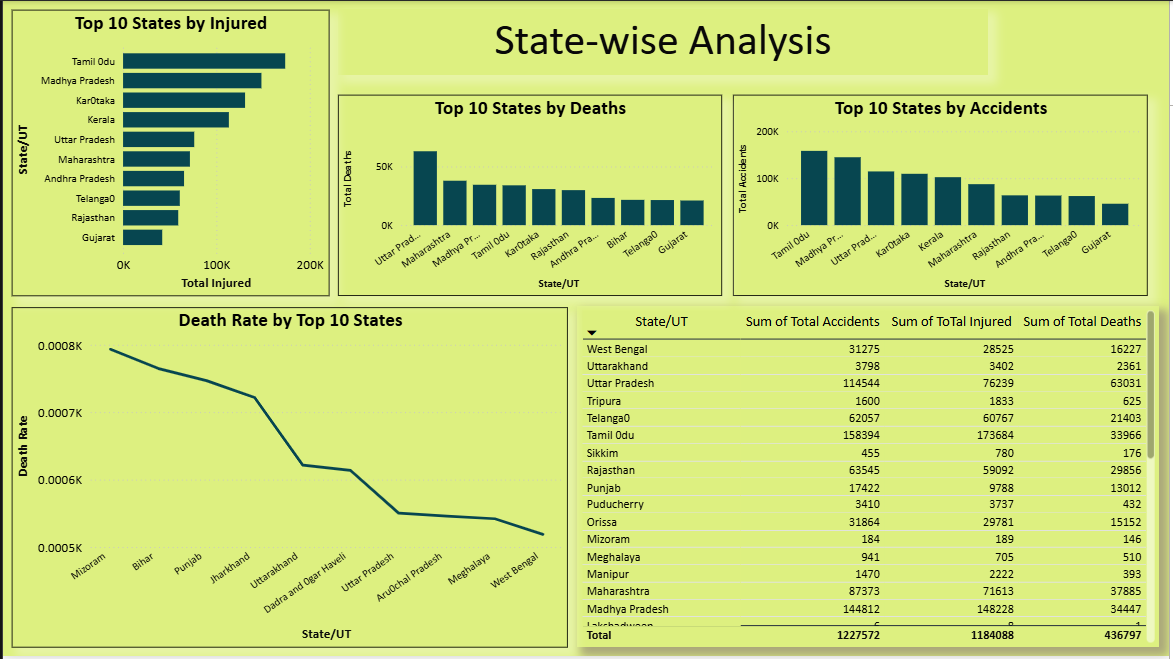

Layout of this report page (visuals, bound fields, positions):
{"tool":"powerbi","page":{"name":"State Analysis","canvas":[1280,720],"ordinal":1},"visuals":[{"type":"clusteredBarChart","title":"Top 10 States by Injured","fields":{"Category":["Cleaned_Road_Accident_Data.State/UT"],"Y":["Sum(Cleaned_Road_Accident_Data.ToTal Injured)"]},"box":[9.6,9.6,348.5,314.2],"z":0},{"type":"clusteredColumnChart","title":"Top 10 States by Accidents","fields":{"Y":["Sum(Cleaned_Road_Accident_Data.Total Accidents)"],"Category":["Cleaned_Road_Accident_Data.State/UT"]},"box":[801.4,102.9,455.6,220.9],"z":1000},{"type":"clusteredColumnChart","title":"Top 10 States by Deaths","fields":{"Category":["Cleaned_Road_Accident_Data.State/UT"],"Y":["Sum(Cleaned_Road_Accident_Data.Total Deaths)"]},"box":[367.8,102.9,421.3,220.9],"z":2000},{"type":"lineChart","title":"Death Rate by  Top 10 States","fields":{"Category":["Cleaned_Road_Accident_Data.State/UT"],"Y":["Cleaned_Road_Accident_Data.Death Rate"]},"box":[9.6,336.2,610.6,373.2],"z":3000},{"type":"textbox","box":[367.8,8.2,713.6,72.7],"z":4000},{"type":"tableEx","fields":{"Values":["Cleaned_Road_Accident_Data.State/UT","Sum(Cleaned_Road_Accident_Data.Total Accidents)","Sum(Cleaned_Road_Accident_Data.ToTal Injured)","Sum(Cleaned_Road_Accident_Data.Total Deaths)"]},"box":[629.8,334.8,639.5,374.6],"z":5000}]}

Visuals, with their boxes in screenshot pixels (x1, y1, x2, y2), scaled from the page's 1280x720 canvas onto the 1173x659 screenshot:
"Top 10 States by Injured" clusteredBarChart: crop(9, 9, 328, 296)
"Top 10 States by Accidents" clusteredColumnChart: crop(734, 94, 1152, 296)
"Top 10 States by Deaths" clusteredColumnChart: crop(337, 94, 723, 296)
"Death Rate by  Top 10 States" lineChart: crop(9, 308, 568, 649)
textbox: crop(337, 8, 991, 74)
tableEx - Cleaned_Road_Accident_Data.State/UT x Sum(Cleaned_Road_Accident_Data.Total Accidents): crop(577, 306, 1163, 649)
